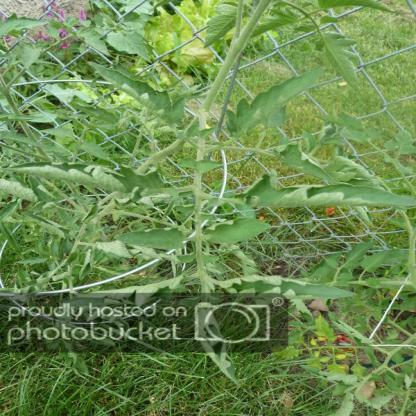tomato mold leaf: (224, 67, 328, 135), (239, 174, 408, 214), (14, 163, 177, 196), (200, 217, 272, 251), (113, 228, 187, 253)
